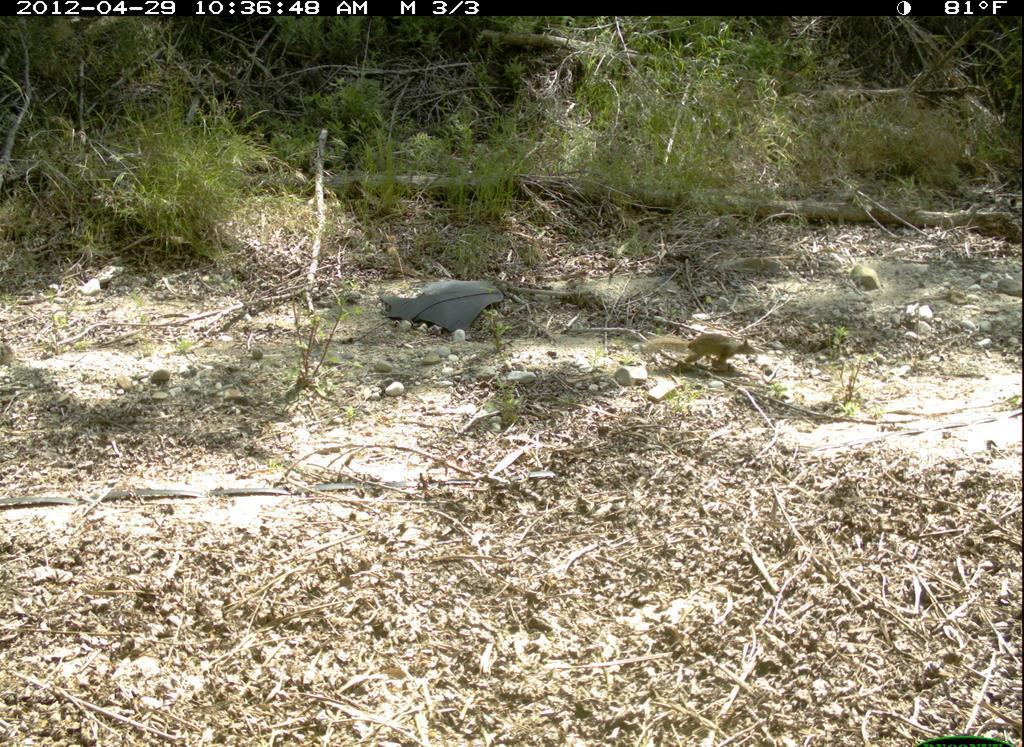squirrel: (637, 331, 761, 380)
